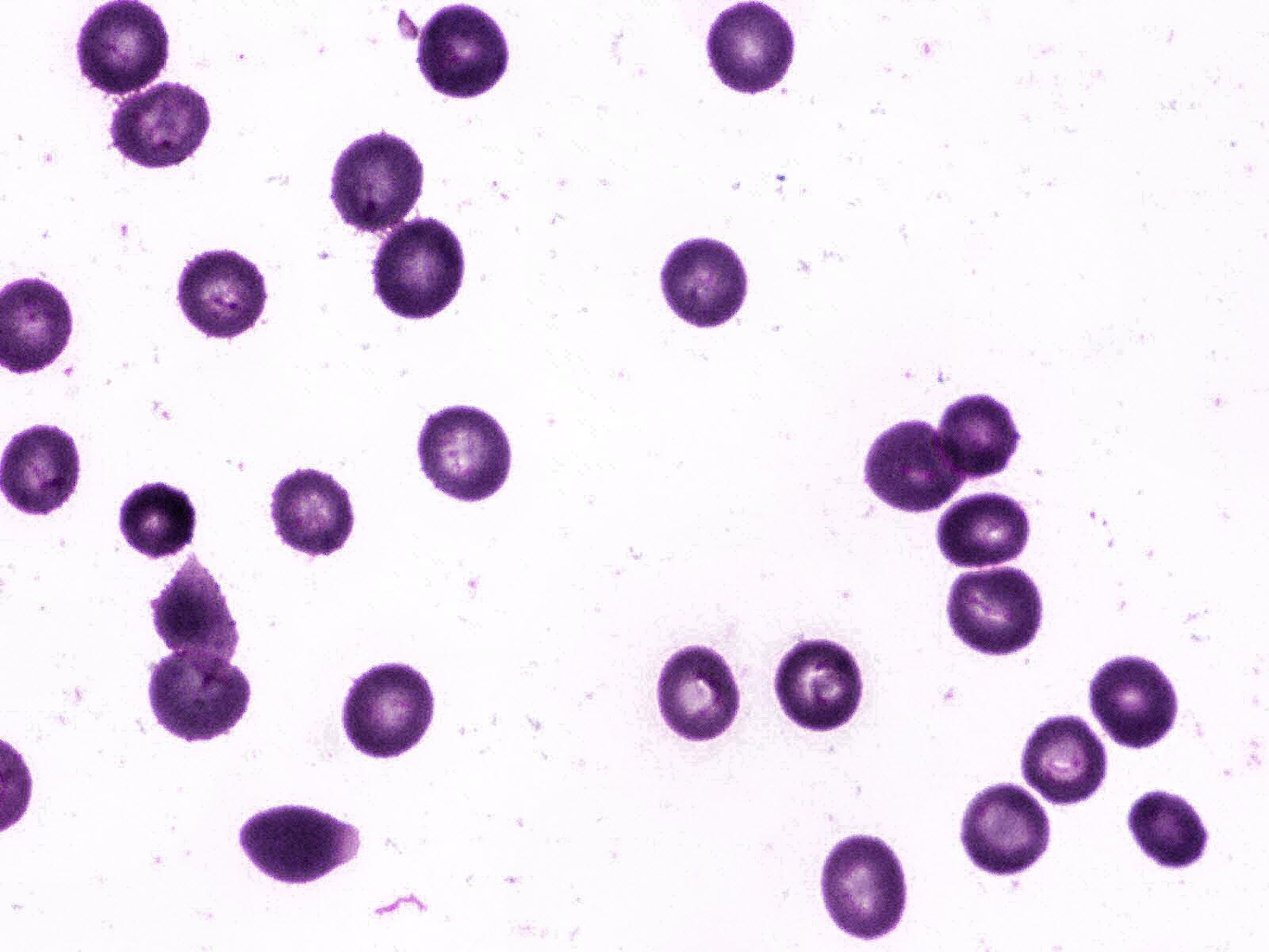Uninfected: (325, 124, 428, 242), (367, 213, 469, 324), (144, 644, 255, 746), (336, 655, 439, 764), (416, 402, 517, 510), (233, 800, 358, 886), (654, 228, 753, 336), (151, 551, 245, 662), (412, 2, 513, 104), (865, 420, 971, 513), (945, 560, 1045, 657), (958, 782, 1054, 881), (109, 83, 213, 173), (824, 833, 908, 943), (75, 1, 170, 98), (704, 0, 796, 99), (1090, 654, 1181, 750), (774, 636, 864, 731), (931, 387, 1019, 484), (268, 467, 360, 559), (179, 247, 269, 340), (1022, 711, 1108, 807), (934, 489, 1036, 569), (1125, 785, 1213, 874), (659, 646, 741, 739), (121, 478, 199, 563)
